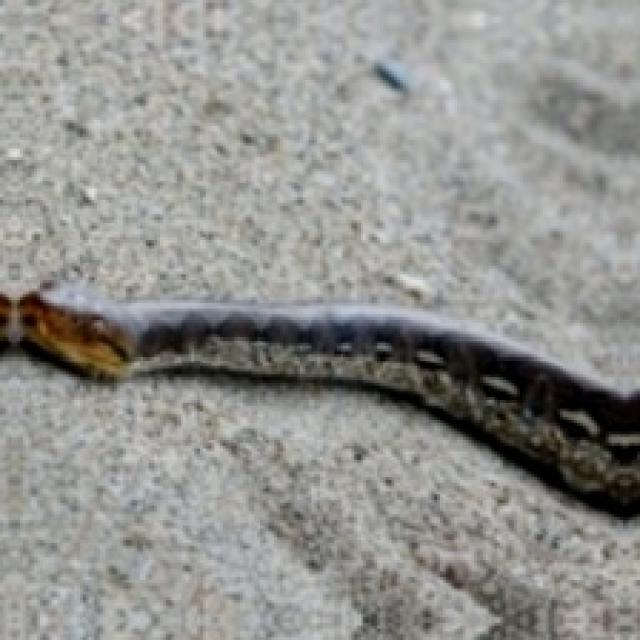reticulated python: (0, 280, 637, 514)
